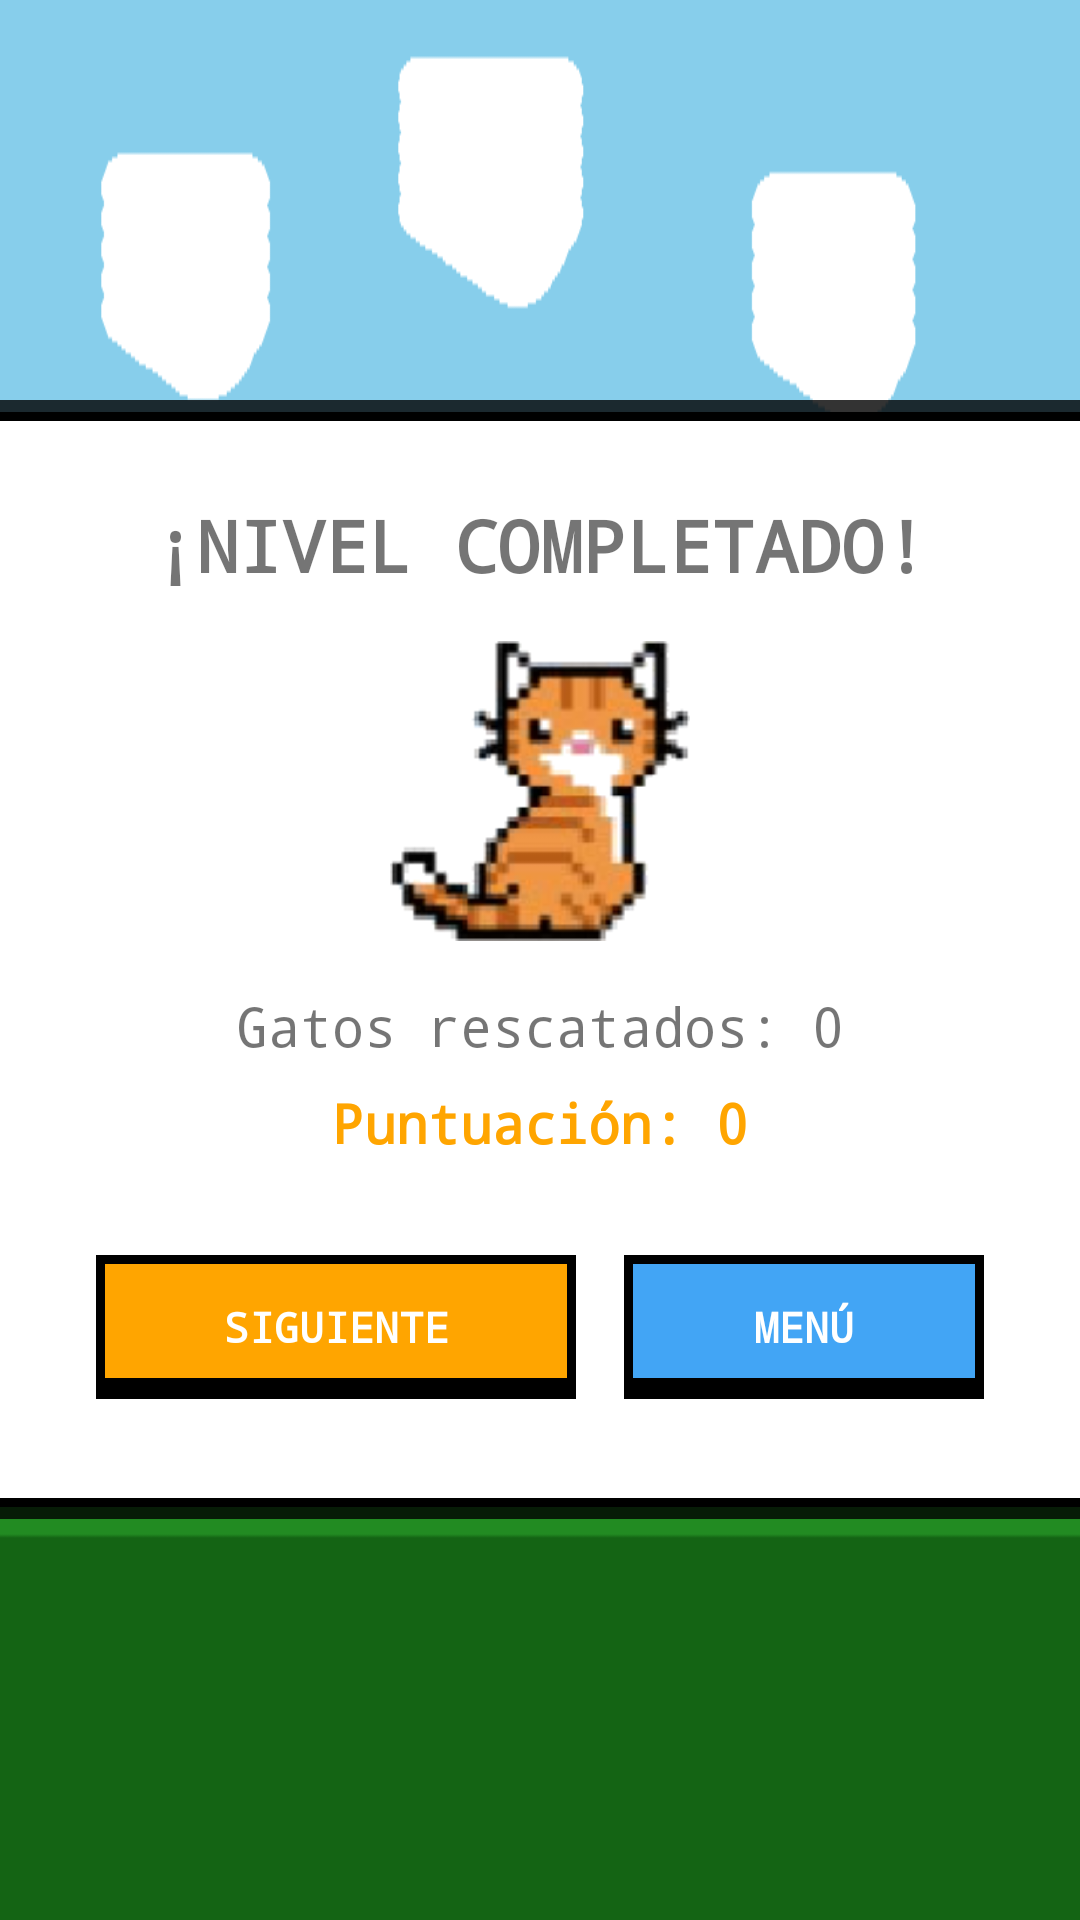

Named icons in this screenshot (1080x1920) and their centers, (x=x, y=y):
cat cheeto: (x=540, y=791)
